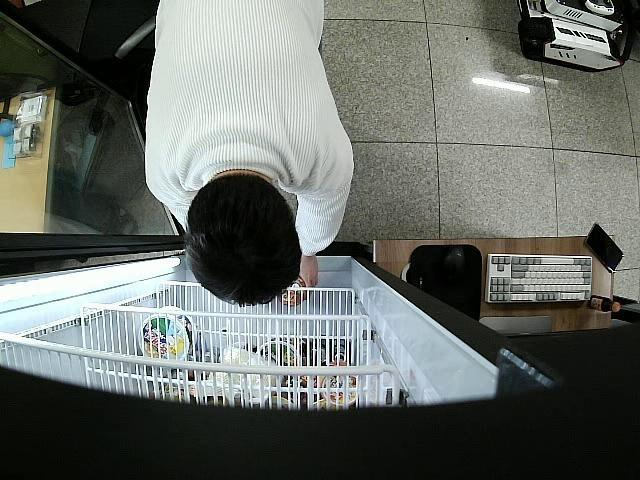06_nuguri_S: (278, 277, 308, 306)
